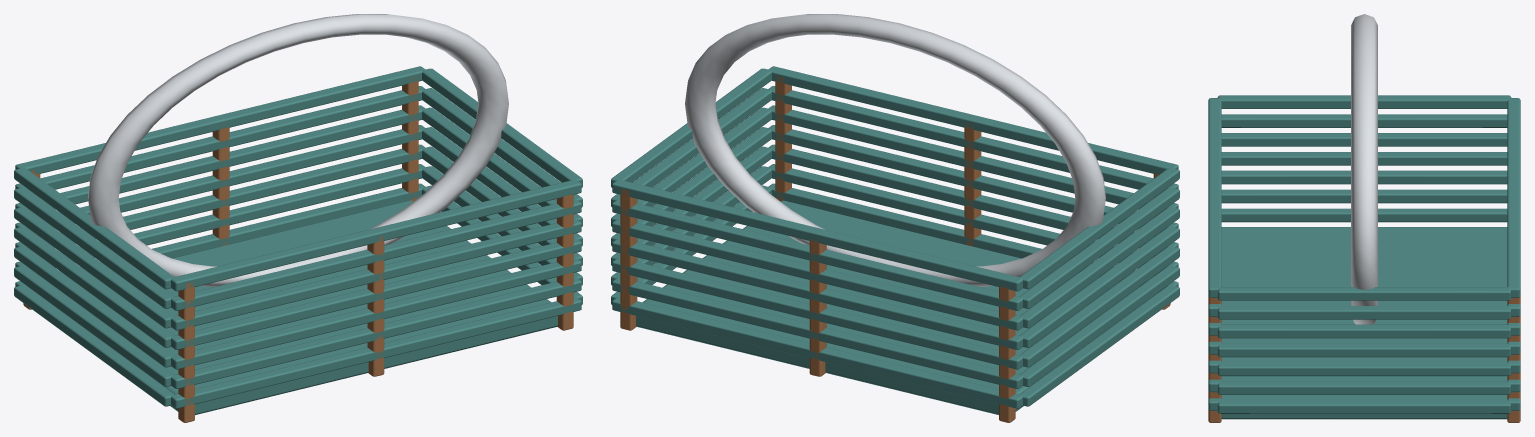
The model's file is wp-panier-de-courses.glb.
3 views of the same model, side by side, from view 1: azimuth 30°, elevation 25°; view 2: azimuth 150°, elevation 25°; view 3: azimuth 270°, elevation 25° (orthographic). The views are drawn at different scales.
Parts seen in each view (by area): view 1: wp-panier-de-courses; view 2: wp-panier-de-courses; view 3: wp-panier-de-courses.
Part boxes in pixels (x1,y1,x2,y2): wp-panier-de-courses: (14, 14, 582, 422); wp-panier-de-courses: (611, 14, 1179, 422); wp-panier-de-courses: (1208, 14, 1520, 422).
Bounding box in the file's own units: 0.45 × 0.3 × 0.3.
